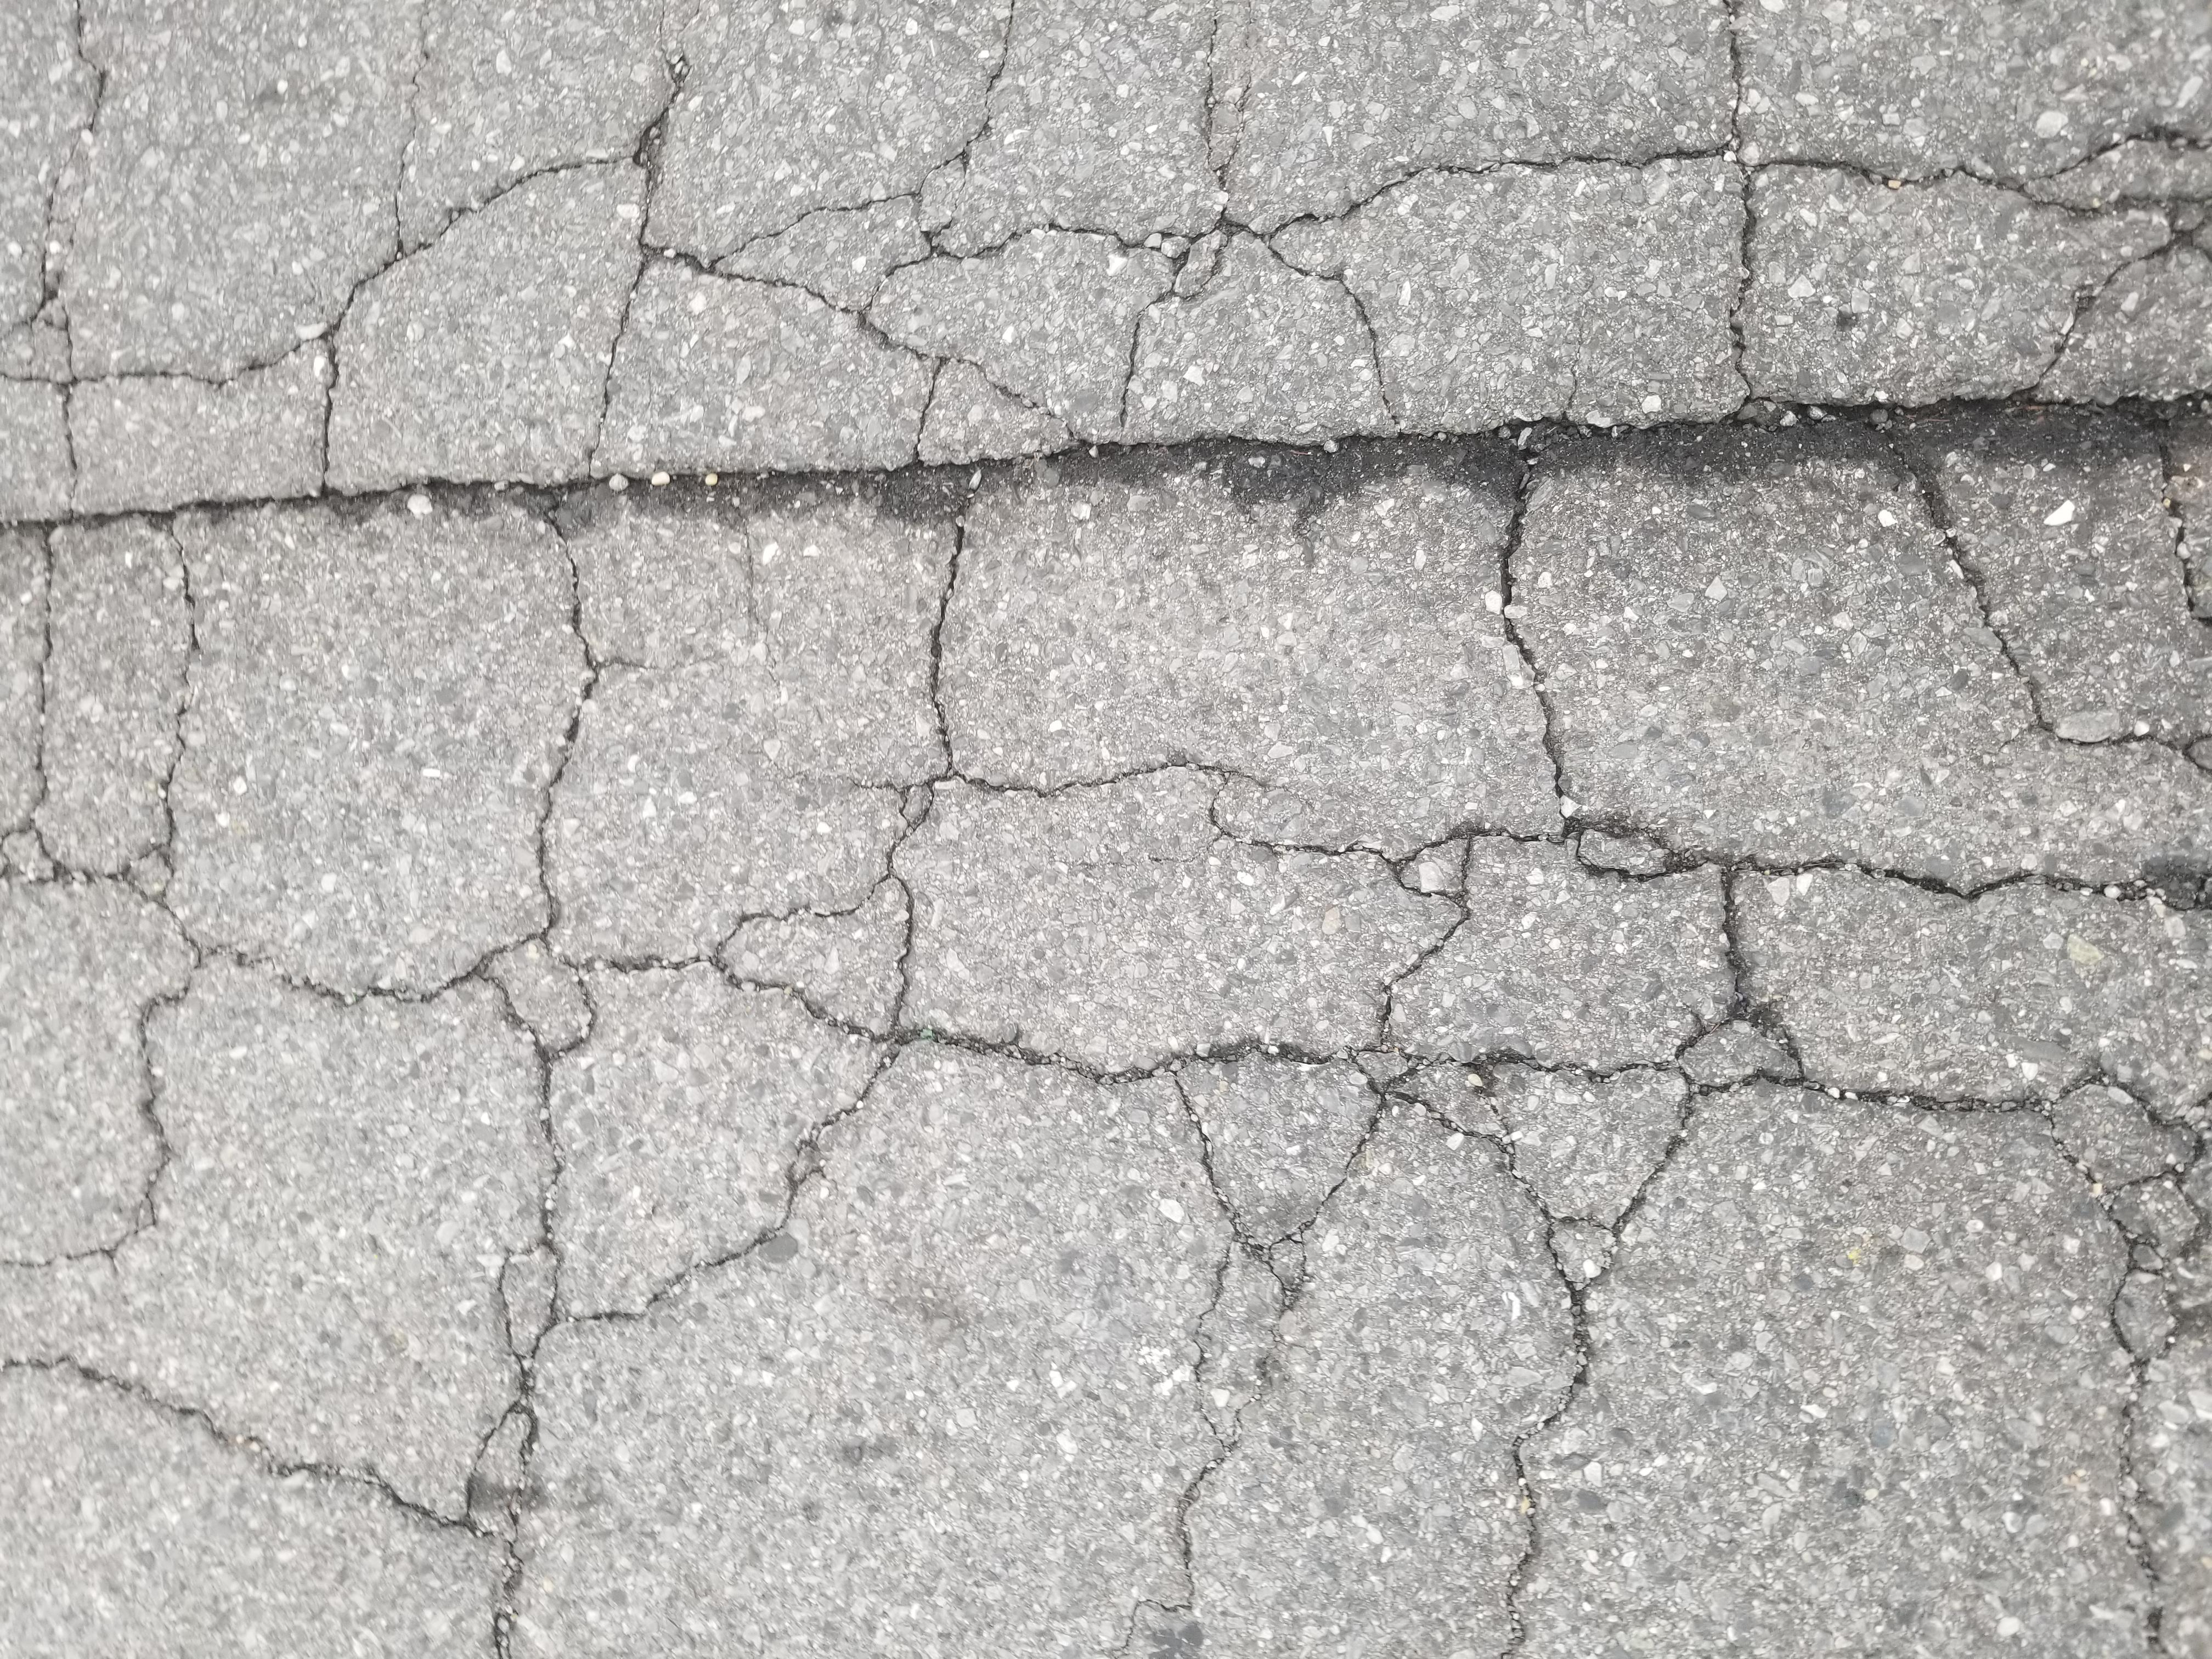crack: (82, 42, 2146, 1612)
